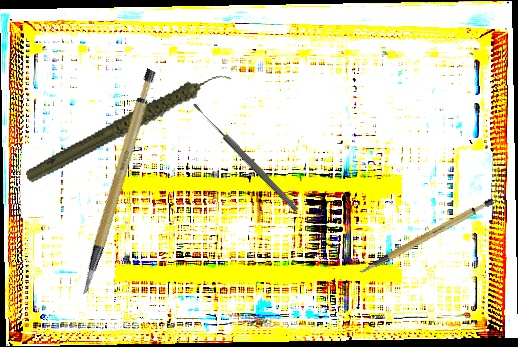Handpiece: (13, 69, 245, 186)
Scalpel Handle: (45, 66, 186, 296), (349, 196, 502, 275)
Surgical Spoon: (190, 100, 301, 214)
